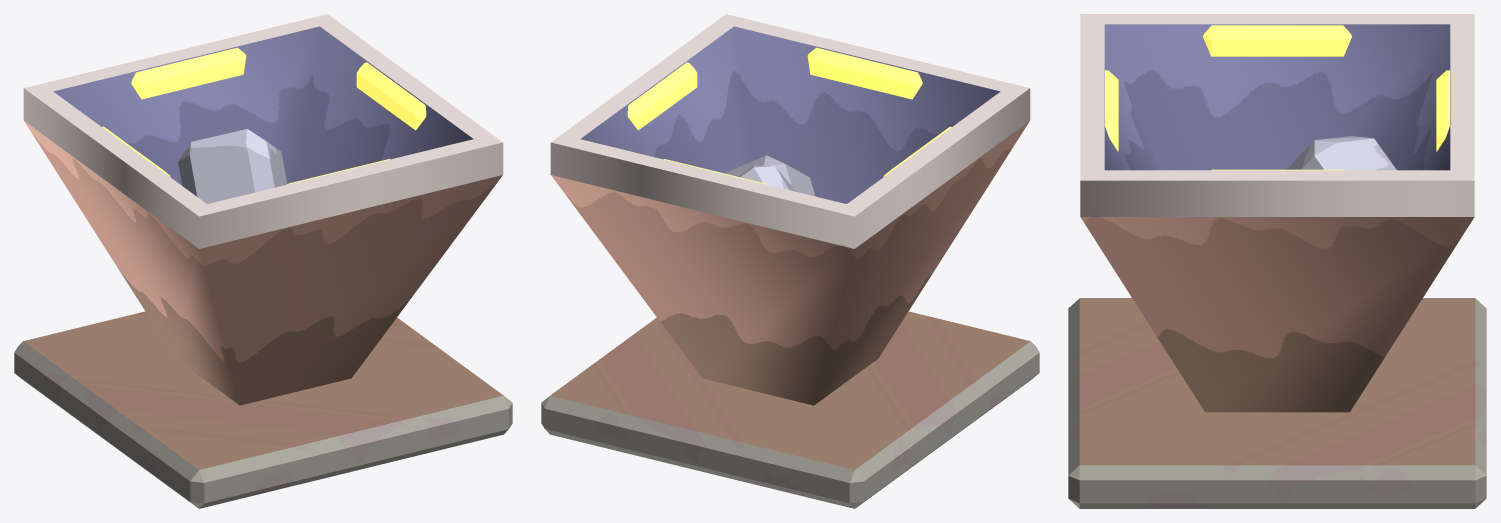
Rendered from R4X_SalvageOptimizer_LOD1.glb.
The picture shows the model from 3 angles, left to right: view 1: azimuth 30°, elevation 25°; view 2: azimuth 150°, elevation 25°; view 3: azimuth 270°, elevation 25°; orthographic projection. The views are drawn at different scales.
Parts seen in each view (by area): view 1: R4X_SalvageOptimizer_LOD1; view 2: R4X_SalvageOptimizer_LOD1; view 3: R4X_SalvageOptimizer_LOD1.
Boxes of the visible parts, x1,y1,x2,y2 form: R4X_SalvageOptimizer_LOD1: (14,14,512,508); R4X_SalvageOptimizer_LOD1: (541,14,1039,508); R4X_SalvageOptimizer_LOD1: (1068,14,1486,508).
Bounding box in the file's own units: 0.52 × 0.45 × 0.52.
Materials: 5 (4 with a texture image).
